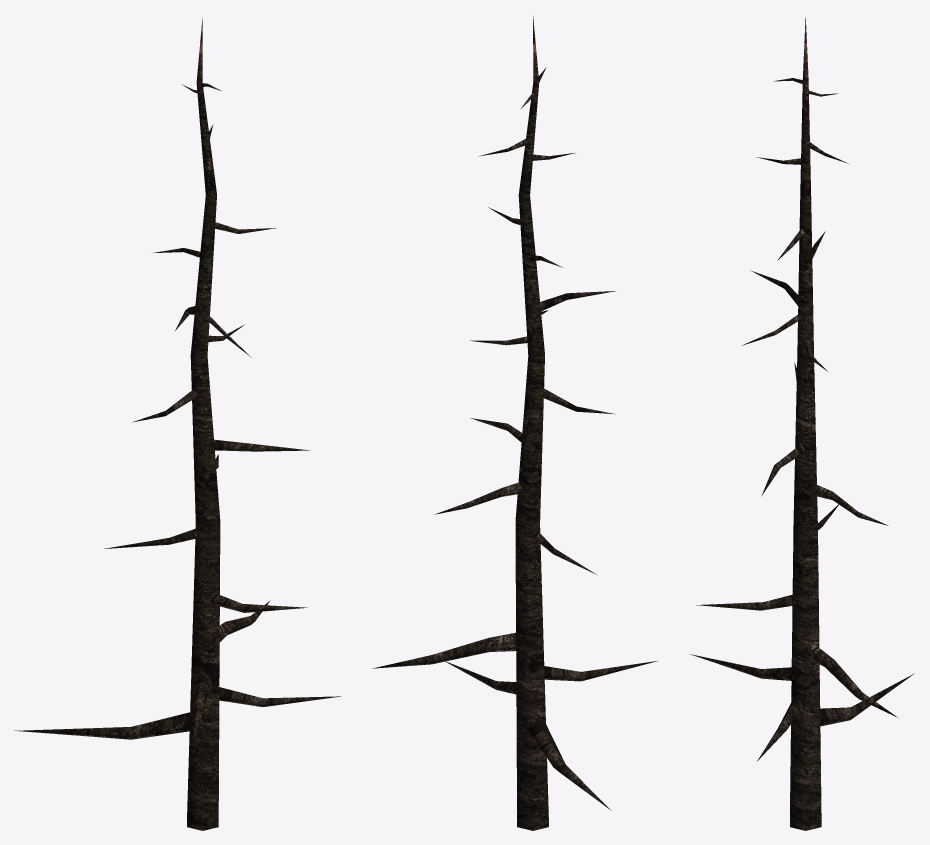
Rendered from tree_pineNOLEAF.fbx.
3 views of the same model, side by side, from view 1: azimuth 30°, elevation 25°; view 2: azimuth 150°, elevation 25°; view 3: azimuth 270°, elevation 25° (orthographic).
Parts seen in each view (by area): view 1: tree_pinenoleaf; view 2: tree_pinenoleaf; view 3: tree_pinenoleaf.
Part boxes in pixels (x1=…): tree_pinenoleaf: x1=14, y1=18, x2=341, y2=830; tree_pinenoleaf: x1=372, y1=16, x2=658, y2=830; tree_pinenoleaf: x1=689, y1=17, x2=914, y2=830.
Bounding box in the file's own units: 276 × 857 × 218.
Materials: 1 (1 with a texture image).
